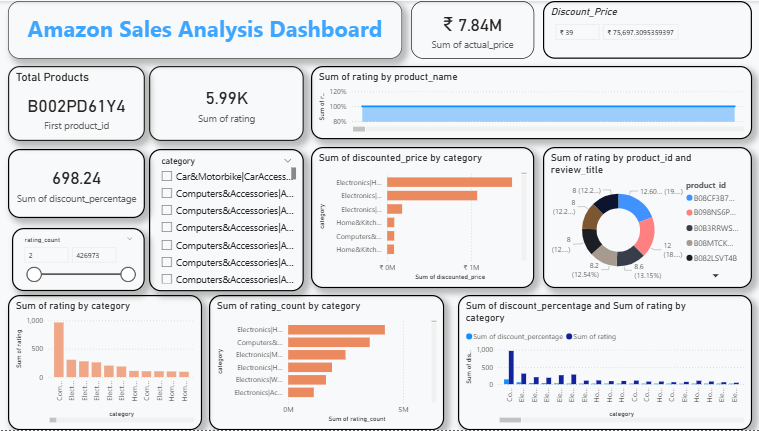

This screenshot's page, from the dashboard's own definition file:
{"tool":"powerbi","page":{"name":"Page 1","canvas":[1280,720],"ordinal":0},"visuals":[{"type":"textbox","box":[15.1,0,661.8,97.4],"z":0},{"type":"card","title":"Total Products","fields":{"Values":["Min(amazon.product_id)"]},"box":[15.1,109.2,230.1,126],"z":1000},{"type":"card","fields":{"Values":["Sum(amazon.rating)"]},"box":[252,109.2,260.4,126],"z":2000},{"type":"card","fields":{"Values":["Sum(amazon.discount_percentage)"]},"box":[15.1,248.6,230.1,115.9],"z":3000},{"type":"clusteredBarChart","fields":{"Category":["amazon.category"],"Y":["Sum(amazon.discounted_price)"]},"box":[524.1,245.2,374.6,236.9],"z":4000},{"type":"donutChart","fields":{"Category":["amazon.product_id"],"Y":["Sum(amazon.rating)"],"Series":["amazon.review_title"]},"box":[913.8,245.2,351.1,236.9],"z":5000},{"type":"slicer","fields":{"Values":["amazon.rating_count"]},"box":[21.8,381.3,223.4,105.8],"z":6000},{"type":"slicer","title":"Discount_Price","fields":{"Values":["amazon.discounted_price"]},"box":[913.8,0,351.1,97.4],"z":7000},{"type":"columnChart","fields":{"Category":["amazon.category"],"Y":["Sum(amazon.rating)"]},"box":[15.1,493.9,325.9,226.8],"z":8000},{"type":"slicer","fields":{"Values":["amazon.category"]},"box":[252,248.6,260.4,238.5],"z":9000},{"type":"barChart","fields":{"Category":["amazon.category"],"Y":["Sum(amazon.rating_count)"]},"box":[352.8,493.9,394.8,226.8],"z":10000},{"type":"lineClusteredColumnComboChart","fields":{"Category":["amazon.category"],"Y":["Sum(amazon.discount_percentage)","Sum(amazon.rating)"]},"box":[771,493.9,493.9,226.8],"z":11000},{"type":"hundredPercentStackedAreaChart","fields":{"Y":["Sum(amazon.rating)"],"Category":["amazon.product_name"]},"box":[524.1,109.2,740.8,122.6],"z":12000},{"type":"card","fields":{"Values":["Sum(amazon.actual_price)"]},"box":[692.1,0,206.6,97.4],"z":12001}]}

Visuals, with their boxes in screenshot pixels (x1, y1, x2, y2), scaled from the page's 1280x720 canvas onto the 759x431 screenshot:
textbox: bbox=(9, 0, 401, 58)
"Total Products" card: bbox=(9, 65, 145, 141)
card - Sum(amazon.rating): bbox=(149, 65, 304, 141)
card - Sum(amazon.discount_percentage): bbox=(9, 149, 145, 218)
clusteredBarChart - amazon.category x Sum(amazon.discounted_price): bbox=(311, 147, 533, 289)
donutChart - amazon.product_id x Sum(amazon.rating): bbox=(542, 147, 750, 289)
slicer - amazon.rating_count: bbox=(13, 228, 145, 292)
"Discount_Price" slicer: bbox=(542, 0, 750, 58)
columnChart - amazon.category x Sum(amazon.rating): bbox=(9, 296, 202, 430)
slicer - amazon.category: bbox=(149, 149, 304, 292)
barChart - amazon.category x Sum(amazon.rating_count): bbox=(209, 296, 443, 430)
lineClusteredColumnComboChart - amazon.category x Sum(amazon.discount_percentage): bbox=(457, 296, 750, 430)
hundredPercentStackedAreaChart - Sum(amazon.rating) x amazon.product_name: bbox=(311, 65, 750, 139)
card - Sum(amazon.actual_price): bbox=(410, 0, 533, 58)
